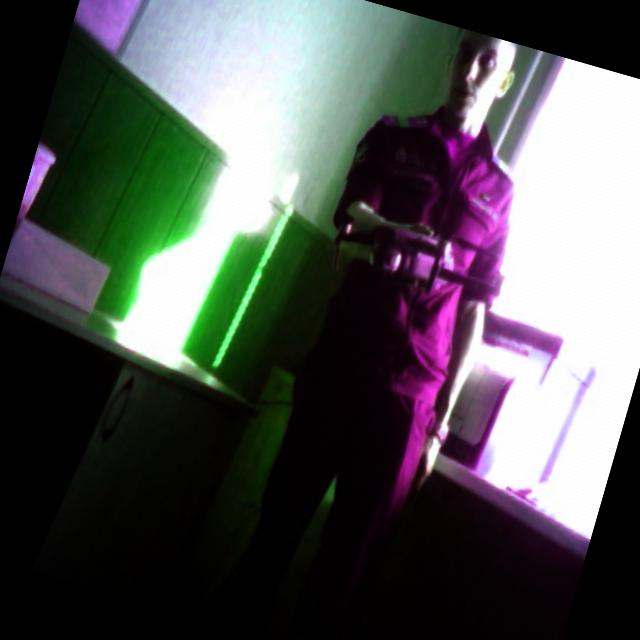drone: (308, 176, 538, 334)
